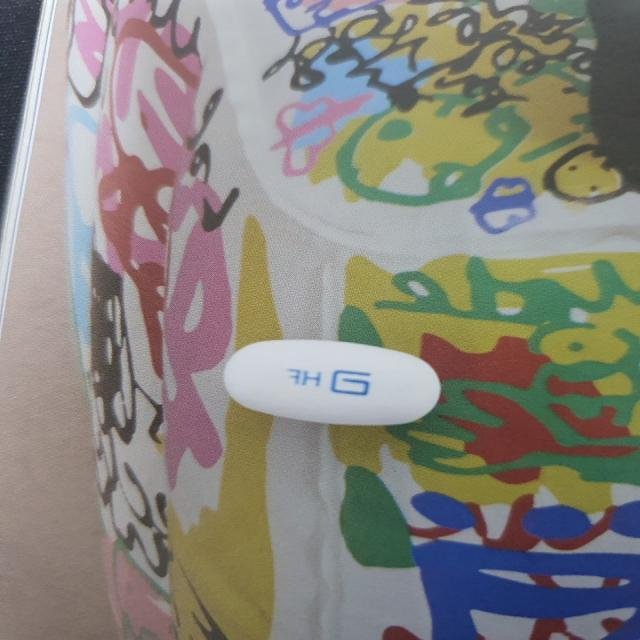pill: (208, 321, 451, 441)
